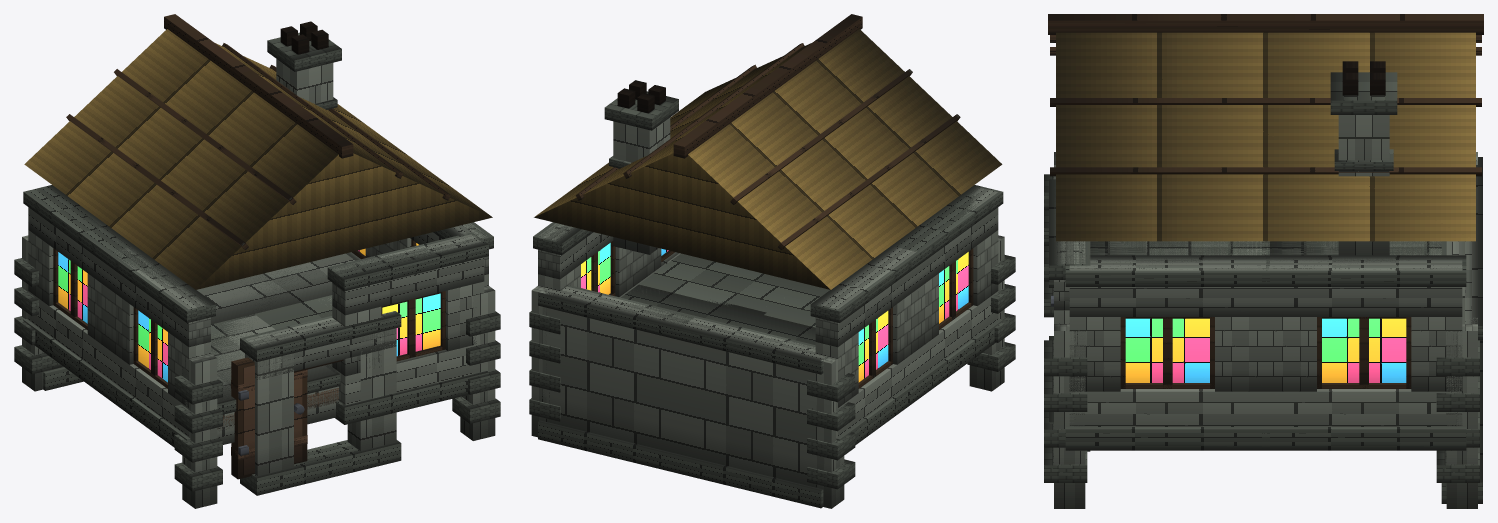
File: house_demo.gltf
The picture shows the model from 3 angles, left to right: view 1: azimuth 30°, elevation 25°; view 2: azimuth 150°, elevation 25°; view 3: azimuth 270°, elevation 25°; orthographic projection. The views are drawn at different scales.
Parts seen in each view (by area): view 1: house_demo; view 2: house_demo; view 3: house_demo.
Part boxes in pixels (x1,y1,x2,y2): house_demo: (14,14,500,508); house_demo: (529,14,1015,508); house_demo: (1044,14,1483,508).
Size of the model in its own units: 2.24 by 2.26 by 2.24.
Materials: 1 (1 with a texture image).
